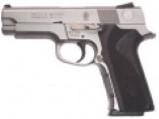gun: (1, 1, 159, 119)
